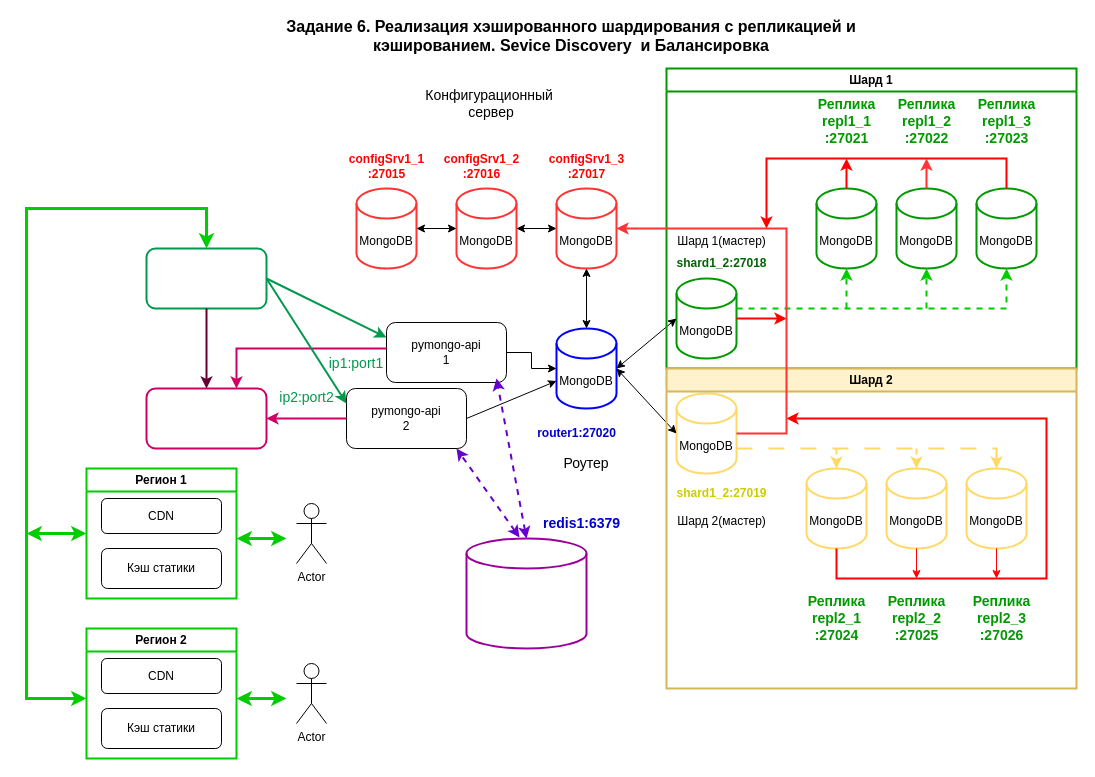
Some shapes in this 1095 by 777 pixel diagram are drawn without their labels. The shapes that lost their labels are listed below. From the top down, each one's centre as x and y in pixels, then its label:
At (206,278): "API gateway".
At (206,418): "Service Registry Consul".
At (526,593): "Redis".
